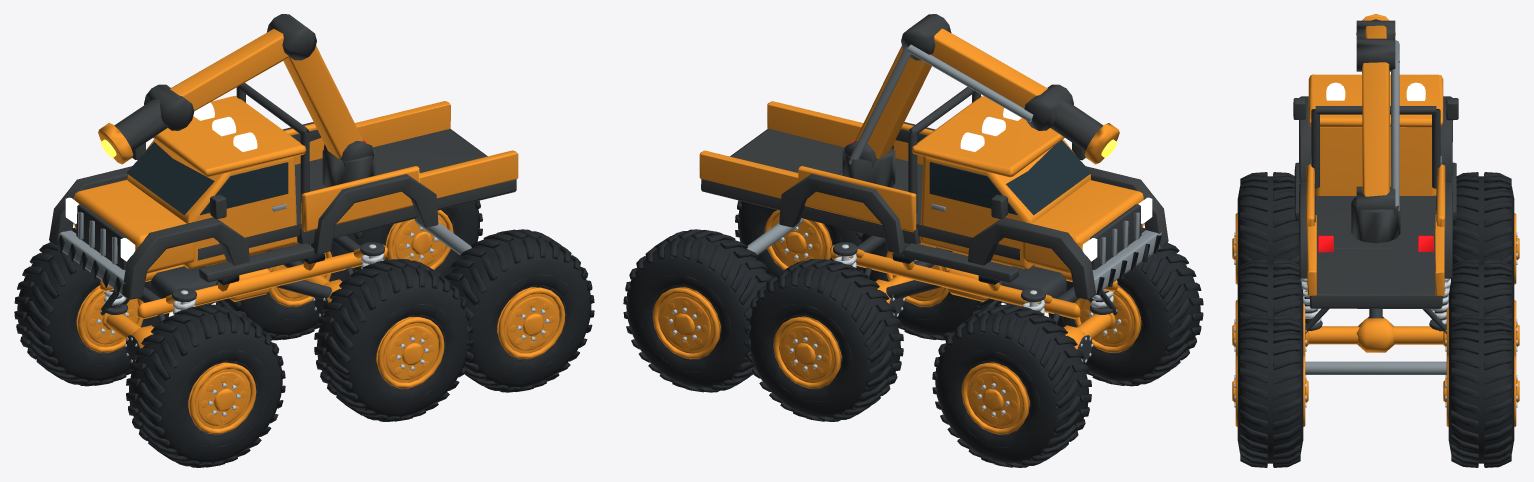
The model's file is BeamBuilder.fbx.
The picture shows the model from 3 angles, left to right: view 1: azimuth 30°, elevation 25°; view 2: azimuth 150°, elevation 25°; view 3: azimuth 270°, elevation 25°; orthographic projection. The views are drawn at different scales.
Visible parts, largest first — view 1: BeamBuilder_LOD0_sprung_body_Geometry, BeamBuilder_LOD0_FL_Spin_Geometry, BeamBuilder_LOD0_RL_Spin_Geometry, BeamBuilder_LOD0_RL_Spin.001_Geometry, BeamBuilder_LOD0_FR_Spin_Geometry, BeamBuilder_LOD0_RR_Spin.001_Geometry, BeamBuilder_LOD0_RR_Spin_Geometry, BeamBuilder_LOD0_ToolPivot_Geometry, BeamBuilder_LOD0_FRONT_axle_Geometry, BeamBuilder_LOD0_Root_Geometry; view 2: BeamBuilder_LOD0_sprung_body_Geometry, BeamBuilder_LOD0_FR_Spin_Geometry, BeamBuilder_LOD0_RR_Spin_Geometry, BeamBuilder_LOD0_RR_Spin.001_Geometry, BeamBuilder_LOD0_FL_Spin_Geometry, BeamBuilder_LOD0_RL_Spin.001_Geometry, BeamBuilder_LOD0_RL_Spin_Geometry, BeamBuilder_LOD0_ToolPivot_Geometry, BeamBuilder_LOD0_FRONT_axle_Geometry, BeamBuilder_LOD0_Root_Geometry; view 3: BeamBuilder_LOD0_sprung_body_Geometry, BeamBuilder_LOD0_RL_Spin.001_Geometry, BeamBuilder_LOD0_RR_Spin.001_Geometry, BeamBuilder_LOD0_FR_Spin_Geometry, BeamBuilder_LOD0_FL_Spin_Geometry, BeamBuilder_LOD0_RR_Spin_Geometry, BeamBuilder_LOD0_RL_Spin_Geometry, BeamBuilder_LOD0_REAR_axle_Geometry, BeamBuilder_LOD0_Root_Geometry, BeamBuilder_LOD0_REAR_shock_-1_Geometry, BeamBuilder_LOD0_REAR_shock_1_Geometry.
Boxes of the visible parts, bbox=[...] form: BeamBuilder_LOD0_sprung_body_Geometry: bbox=[49, 14, 518, 319]; BeamBuilder_LOD0_FL_Spin_Geometry: bbox=[126, 304, 285, 467]; BeamBuilder_LOD0_RL_Spin_Geometry: bbox=[314, 259, 473, 421]; BeamBuilder_LOD0_RL_Spin.001_Geometry: bbox=[444, 229, 594, 392]; BeamBuilder_LOD0_FR_Spin_Geometry: bbox=[14, 227, 169, 386]; BeamBuilder_LOD0_RR_Spin.001_Geometry: bbox=[354, 200, 482, 276]; BeamBuilder_LOD0_RR_Spin_Geometry: bbox=[215, 232, 361, 340]; BeamBuilder_LOD0_ToolPivot_Geometry: bbox=[98, 98, 167, 164]; BeamBuilder_LOD0_FRONT_axle_Geometry: bbox=[106, 314, 153, 362]; BeamBuilder_LOD0_Root_Geometry: bbox=[100, 244, 353, 323]; BeamBuilder_LOD0_sprung_body_Geometry: bbox=[699, 14, 1168, 319]; BeamBuilder_LOD0_FR_Spin_Geometry: bbox=[932, 304, 1091, 467]; BeamBuilder_LOD0_RR_Spin_Geometry: bbox=[744, 259, 903, 421]; BeamBuilder_LOD0_RR_Spin.001_Geometry: bbox=[623, 229, 773, 392]; BeamBuilder_LOD0_FL_Spin_Geometry: bbox=[1046, 228, 1203, 386]; BeamBuilder_LOD0_RL_Spin.001_Geometry: bbox=[735, 200, 863, 276]; BeamBuilder_LOD0_RL_Spin_Geometry: bbox=[857, 233, 1001, 340]; BeamBuilder_LOD0_ToolPivot_Geometry: bbox=[1050, 98, 1119, 164]; BeamBuilder_LOD0_FRONT_axle_Geometry: bbox=[1063, 314, 1111, 363]; BeamBuilder_LOD0_Root_Geometry: bbox=[851, 244, 1117, 324]; BeamBuilder_LOD0_sprung_body_Geometry: bbox=[1293, 20, 1458, 374]; BeamBuilder_LOD0_RL_Spin.001_Geometry: bbox=[1232, 314, 1308, 467]; BeamBuilder_LOD0_RR_Spin.001_Geometry: bbox=[1443, 314, 1519, 467]; BeamBuilder_LOD0_FR_Spin_Geometry: bbox=[1446, 172, 1519, 284]; BeamBuilder_LOD0_FL_Spin_Geometry: bbox=[1232, 172, 1299, 285]; BeamBuilder_LOD0_RR_Spin_Geometry: bbox=[1443, 259, 1519, 356]; BeamBuilder_LOD0_RL_Spin_Geometry: bbox=[1232, 259, 1308, 356]; BeamBuilder_LOD0_REAR_axle_Geometry: bbox=[1308, 317, 1443, 352]; BeamBuilder_LOD0_Root_Geometry: bbox=[1305, 308, 1446, 333]; BeamBuilder_LOD0_REAR_shock_-1_Geometry: bbox=[1299, 263, 1322, 330]; BeamBuilder_LOD0_REAR_shock_1_Geometry: bbox=[1429, 262, 1452, 330].
Bounding box in the file's own units: 706 × 546 × 414.
